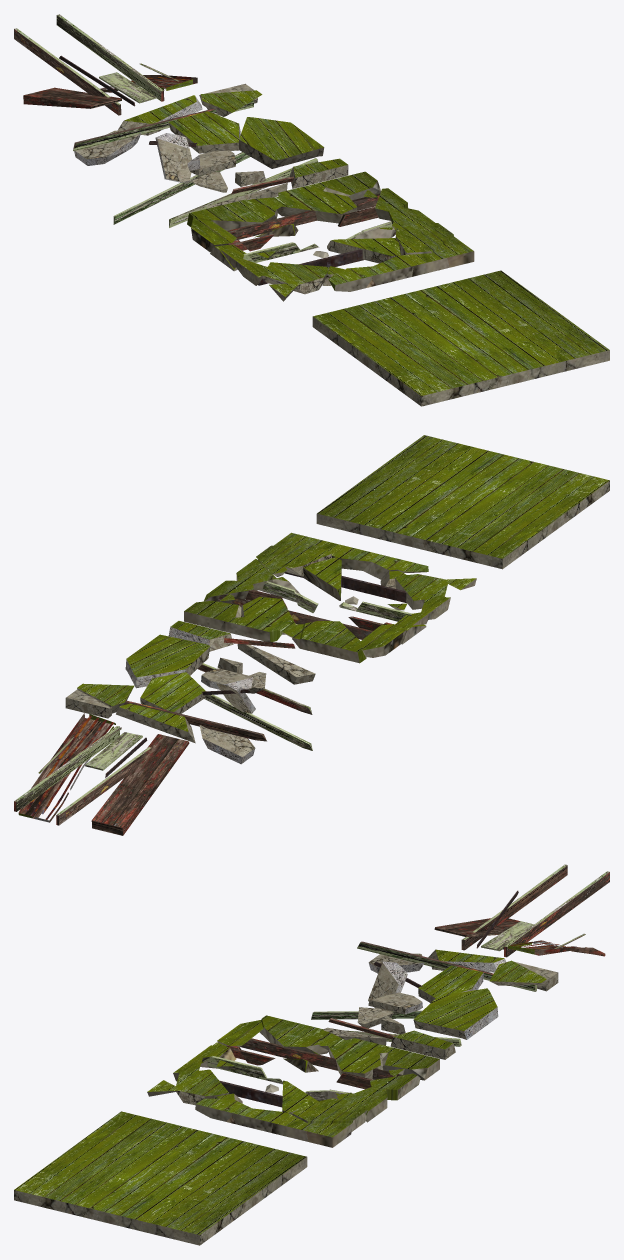
The model's file is module parts floor.fbx.
The picture shows the model from 3 angles, top to bottom: view 1: azimuth 30°, elevation 25°; view 2: azimuth 150°, elevation 25°; view 3: azimuth 330°, elevation 25°; orthographic projection.
Visible parts, largest first — view 1: floor 0, floor 1, floor 2, floor 3; view 2: floor 0, floor 1, floor 2, floor 3; view 3: floor 0, floor 1, floor 2, floor 3.
Part boxes in pixels (left/top/right/bottom): floor 0: left=312, top=270, right=609, bottom=406; floor 1: left=187, top=171, right=474, bottom=301; floor 2: left=73, top=83, right=348, bottom=227; floor 3: left=14, top=14, right=197, bottom=115; floor 0: left=316, top=435, right=609, bottom=569; floor 1: left=184, top=532, right=476, bottom=663; floor 2: left=65, top=621, right=315, bottom=764; floor 3: left=14, top=713, right=189, bottom=835; floor 0: left=14, top=1111, right=307, bottom=1245; floor 1: left=147, top=1015, right=439, bottom=1147; floor 2: left=311, top=941, right=558, bottom=1059; floor 3: left=434, top=864, right=609, bottom=957.
Size of the model in its own units: 744 by 234 by 3247.
2 materials, 2 textured.
